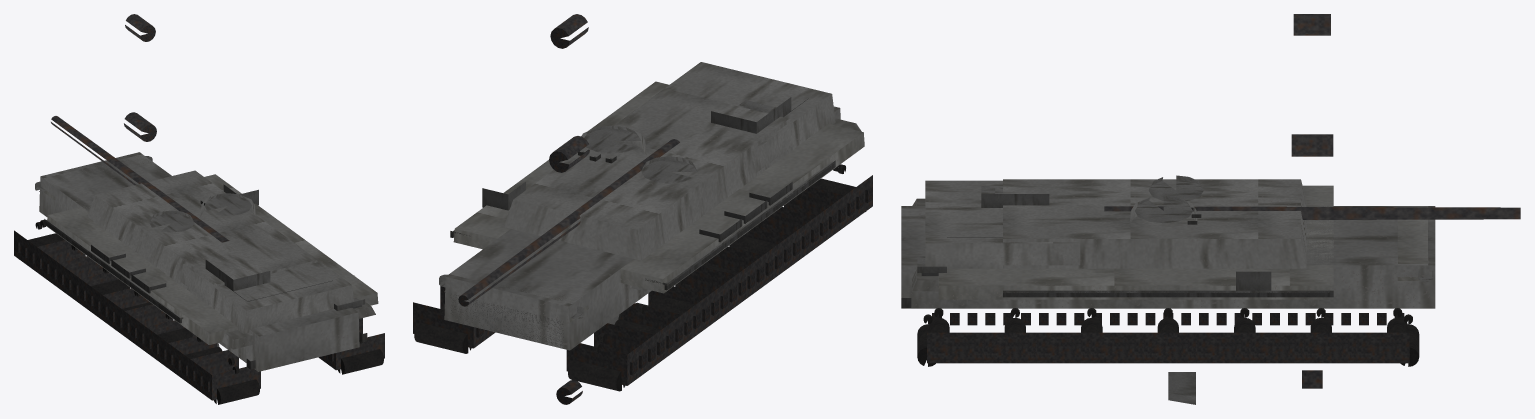
File: ct-heavy.glb
3 views of the same model, side by side, from view 1: azimuth 30°, elevation 25°; view 2: azimuth 150°, elevation 25°; view 3: azimuth 270°, elevation 25° (orthographic). The views are drawn at different scales.
Visible parts, largest first — view 1: Turret, Hull, Gun, TrackR0, TrackR1, TrackR4, TrackR8, TrackR7, TrackR5, TrackR2, TrackR3, TrackR6 (+5 smaller); view 2: Turret, Hull, Gun, TrackR8, TrackR7, TrackR0, TrackR1, TrackR4, TrackR6, TrackR3, TrackR5, TrackR2 (+6 smaller); view 3: Turret, Hull, Gun, TrackL2, TrackL6, TrackL7, TrackL0, TrackL5, TrackL1, TrackL3, TrackL4, TrackL8.
Part boxes in pixels (<box>): Turret: <box>87,170,354,346</box>; Hull: <box>35,152,378,371</box>; Gun: <box>51,14,229,242</box>; TrackR0: <box>189,359,260,400</box>; TrackR1: <box>167,343,238,383</box>; TrackR4: <box>101,295,173,335</box>; TrackR8: <box>14,230,85,271</box>; TrackR7: <box>36,246,105,287</box>; TrackR5: <box>80,279,149,319</box>; TrackR2: <box>145,326,217,367</box>; TrackR3: <box>123,311,195,351</box>; TrackR6: <box>58,262,118,303</box>; Turret: <box>503,62,835,324</box>; Hull: <box>439,81,864,350</box>; Gun: <box>458,14,679,404</box>; TrackR8: <box>566,335,655,385</box>; TrackR7: <box>594,315,682,365</box>; TrackR0: <box>784,175,872,226</box>; TrackR1: <box>760,196,845,246</box>; TrackR4: <box>675,255,764,306</box>; TrackR6: <box>621,295,709,345</box>; TrackR3: <box>704,235,791,286</box>; TrackR5: <box>648,275,736,325</box>; TrackR2: <box>743,215,818,266</box>; Turret: <box>925,175,1306,404</box>; Hull: <box>901,185,1435,308</box>; Gun: <box>1104,14,1520,388</box>; TrackL2: <box>1033,313,1089,363</box>; TrackL6: <box>1247,313,1302,363</box>; TrackL7: <box>1300,313,1356,363</box>; TrackL0: <box>927,313,982,363</box>; TrackL5: <box>1194,313,1249,363</box>; TrackL1: <box>980,313,1035,363</box>; TrackL3: <box>1087,313,1142,363</box>; TrackL4: <box>1140,313,1195,363</box>; TrackL8: <box>1354,313,1409,363</box>.
Size of the model in its own units: 3.52 by 6.08 by 8.82.
Materials: 3 (3 with a texture image).
